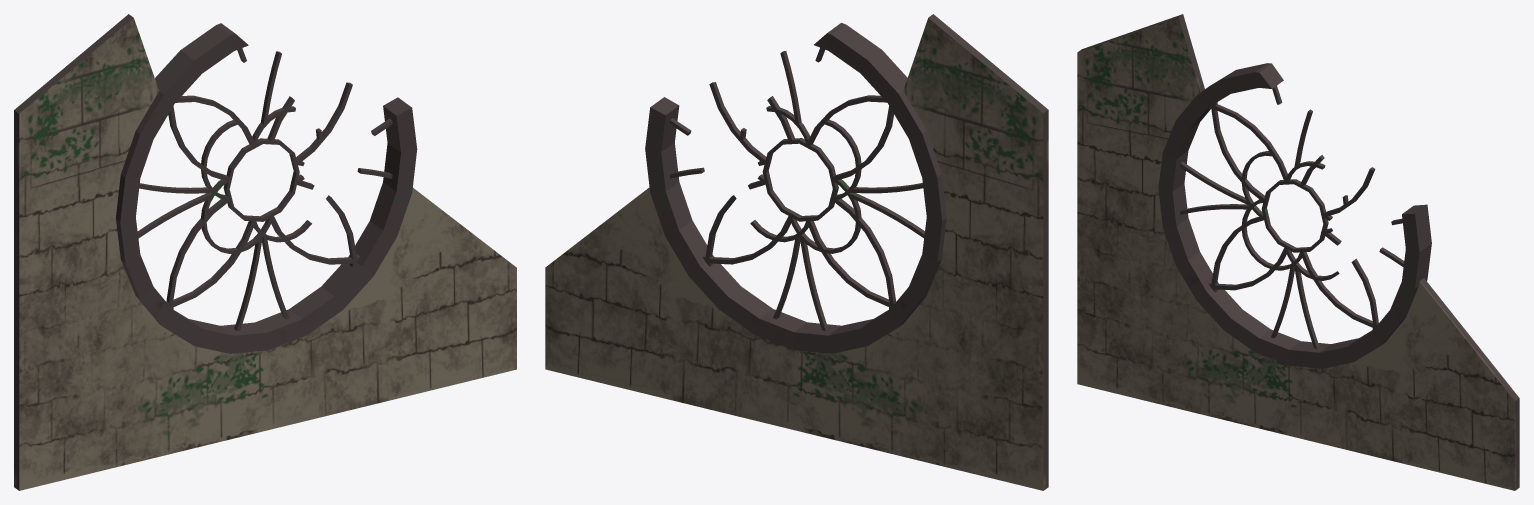
The model's file is mur I_3.FBX.
3 renders of one model, left to right at view 1: azimuth 30°, elevation 25°; view 2: azimuth 150°, elevation 25°; view 3: azimuth 330°, elevation 25°, orthographic. The views are drawn at different scales.
Parts seen in each view (by area): view 1: Object; view 2: Object; view 3: Object.
Part boxes in pixels (x1,y1,x2,y2): Object: (14, 14, 516, 490); Object: (545, 14, 1048, 490); Object: (1077, 14, 1519, 490).
Size of the model in its own units: 28.92 by 24.72 by 1.43.
